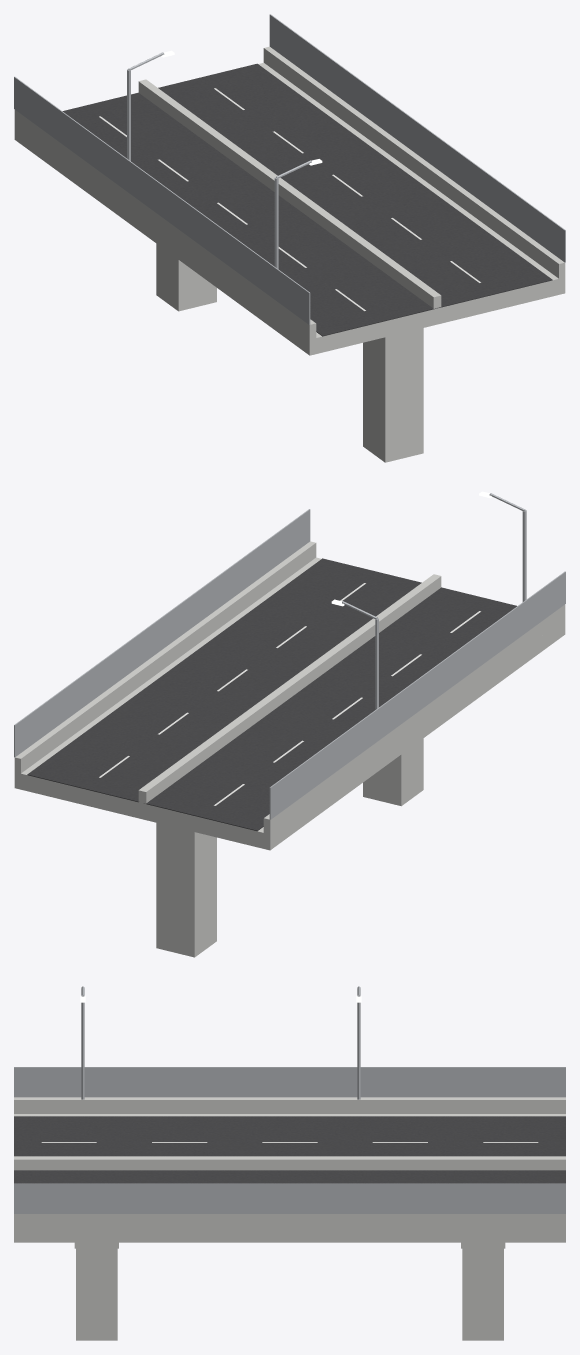
The model's file is highway.glb.
The picture shows the model from 3 angles, top to bottom: view 1: azimuth 30°, elevation 25°; view 2: azimuth 150°, elevation 25°; view 3: azimuth 270°, elevation 25°; orthographic projection. The views are drawn at different scales.
Parts seen in each view (by area): view 1: highway; view 2: highway; view 3: highway.
Boxes of the visible parts, x1,y1,x2,y2 form: highway: (14,14,565,462); highway: (14,491,565,957); highway: (14,986,565,1340).
Bounding box in the file's own units: 20.08 × 23.7 × 40.
5 materials, 1 textured.
